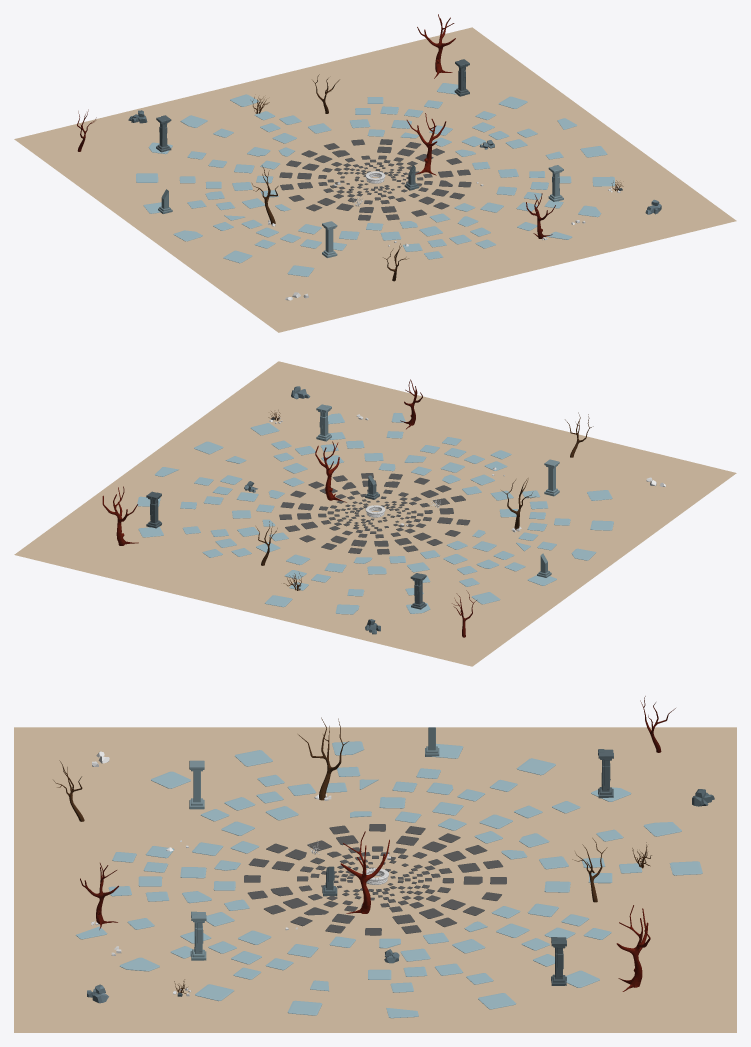
Rendered from Arena1.gltf.
3 renders of one model, top to bottom at view 1: azimuth 30°, elevation 25°; view 2: azimuth 150°, elevation 25°; view 3: azimuth 270°, elevation 25°, orthographic. The views are drawn at different scales.
Visible parts, largest first — view 1: Arena, blocks3, blocks2; view 2: Arena, blocks3, blocks2; view 3: Arena, blocks3, blocks2, tree2.002, tree2.001, OldColumn1.003, OldColumn1.001, OldColumn1.002, tree1.001, column1.001.
Part boxes in pixels (x1,y1,x2,y2): Arena: (14, 27, 736, 332); blocks3: (136, 83, 614, 276); blocks2: (279, 139, 471, 220); Arena: (14, 361, 736, 666); blocks3: (137, 412, 613, 614); blocks2: (279, 473, 470, 554); Arena: (14, 727, 736, 1032); blocks3: (76, 741, 702, 1018); blocks2: (244, 824, 506, 935); tree2.002: (616, 905, 650, 991); tree2.001: (340, 831, 389, 913); OldColumn1.003: (190, 911, 206, 960); OldColumn1.001: (598, 749, 613, 798); OldColumn1.002: (551, 937, 566, 985); tree1.001: (298, 717, 348, 800); column1.001: (189, 760, 204, 809).
Bounding box in the file's own units: 50 × 6.57 × 50.
6 materials, 5 textured.
